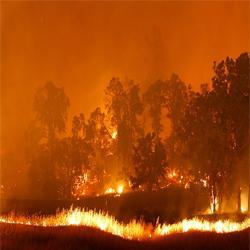fire: (67, 208, 114, 229), (183, 219, 250, 231), (105, 184, 126, 193)
